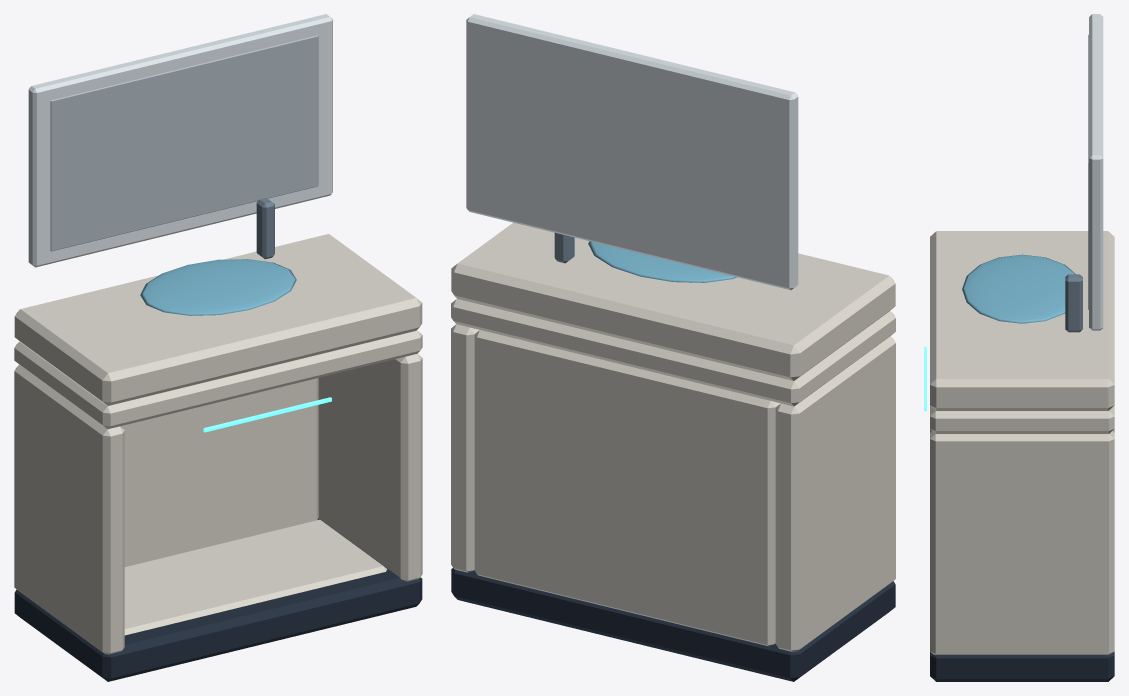
File: utility_03.glb
The picture shows the model from 3 angles, left to right: view 1: azimuth 30°, elevation 25°; view 2: azimuth 150°, elevation 25°; view 3: azimuth 270°, elevation 25°; orthographic projection. The views are drawn at different scales.
Visible parts, largest first — view 1: Side (×2), Mirror, SinkTop, Back, Bottom, Base, MirrorFrame, Top, Basin, Tap, StatusLight; view 2: Back, MirrorFrame, Side (×2), SinkTop, Base, Top, Basin; view 3: Side, SinkTop, Basin, Base, MirrorFrame, Top, Tap.
Boxes of the visible parts, bbox=[...] form: Side (×2): bbox=[14, 353, 422, 654]; Mirror: bbox=[50, 35, 318, 251]; SinkTop: bbox=[14, 234, 422, 405]; Back: bbox=[120, 378, 318, 566]; Bottom: bbox=[124, 519, 387, 635]; Base: bbox=[14, 518, 422, 681]; MirrorFrame: bbox=[28, 14, 332, 267]; Top: bbox=[14, 330, 422, 428]; Basin: bbox=[140, 259, 296, 315]; Tap: bbox=[256, 198, 274, 259]; StatusLight: bbox=[203, 397, 331, 432]; Back: bbox=[474, 330, 780, 646]; MirrorFrame: bbox=[466, 14, 798, 290]; Side (×2): bbox=[451, 324, 895, 652]; SinkTop: bbox=[451, 222, 895, 380]; Base: bbox=[451, 568, 895, 681]; Top: bbox=[451, 299, 895, 406]; Basin: bbox=[588, 241, 736, 282]; Side: bbox=[930, 431, 1114, 655]; SinkTop: bbox=[930, 231, 1114, 410]; Basin: bbox=[962, 254, 1075, 323]; Base: bbox=[930, 652, 1114, 681]; MirrorFrame: bbox=[1089, 14, 1103, 330]; Top: bbox=[930, 406, 1114, 433]; Tap: bbox=[1065, 274, 1082, 332].
Size of the model in its own units: 1.02 by 1.63 by 0.536.
